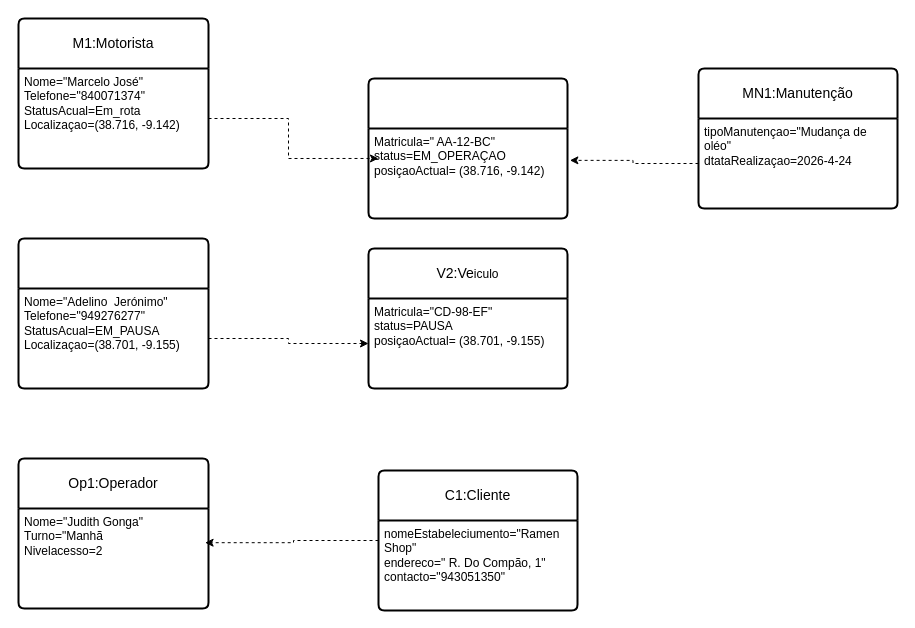
Some shapes in this 915 by 628 pixel diagram are drawn without their labels. The shapes that lost their labels are listed below. From the top down, each one's box as (x1, y1, x2, y2) in pixels, then its label:
(367, 77, 568, 219): V1:Ve iculo
(17, 237, 209, 389): M2:Motorista
